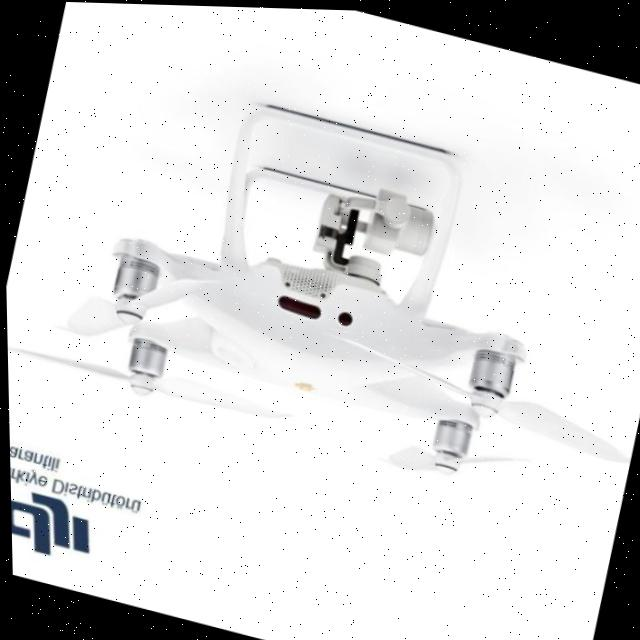drones: (0, 25, 640, 541)
